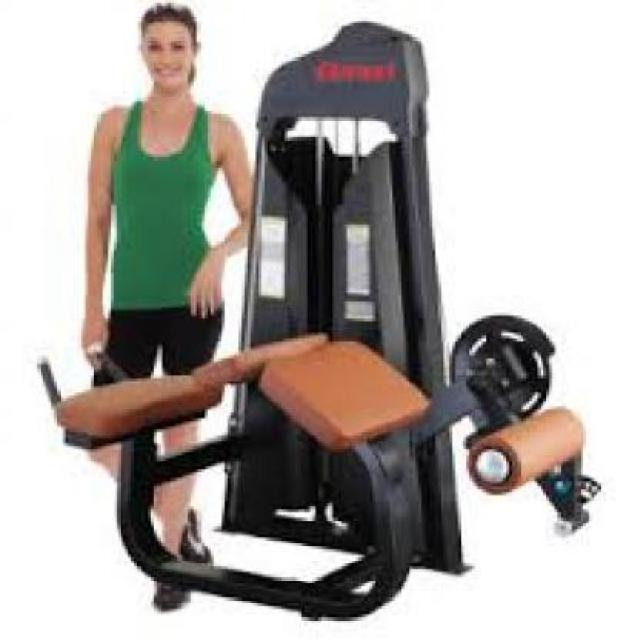reg curl machine: (42, 23, 603, 622)
